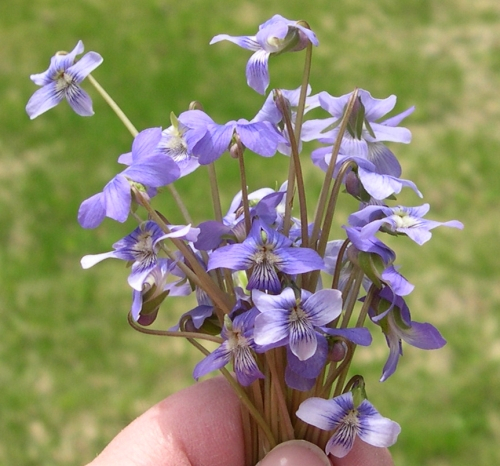violet: (39, 124, 454, 443), (31, 40, 116, 128), (221, 8, 305, 81)
